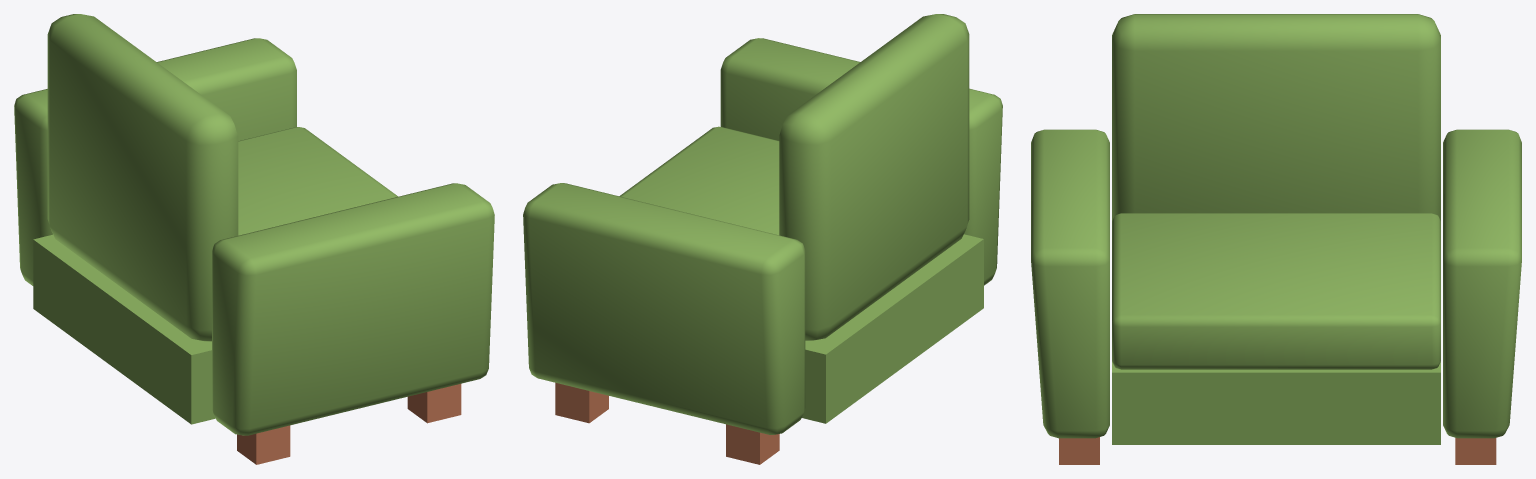
Rendered from sofaSmall.fbx.
3 views of the same model, side by side, from view 1: azimuth 30°, elevation 25°; view 2: azimuth 150°, elevation 25°; view 3: azimuth 270°, elevation 25° (orthographic). The views are drawn at different scales.
Parts seen in each view (by area): view 1: SofaSimple; view 2: SofaSimple; view 3: SofaSimple.
Boxes of the visible parts, <box> form: SofaSimple: <box>14,14,494,464</box>; SofaSimple: <box>523,14,1002,464</box>; SofaSimple: <box>1031,14,1521,464</box>.
Size of the model in its own units: 152 by 175 by 230.
